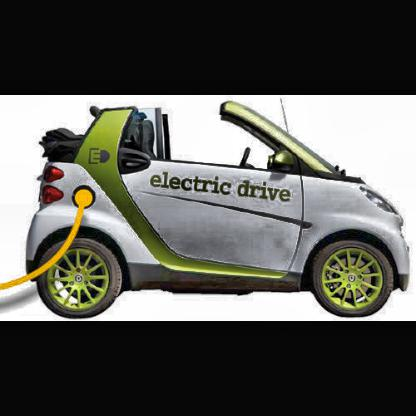smart fortwo Convertible 2012: (27, 100, 412, 321)
